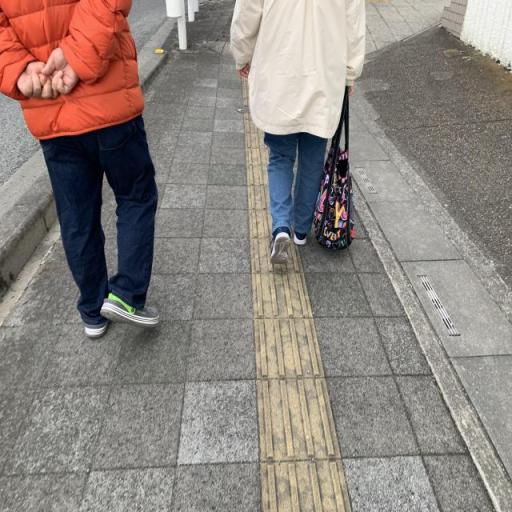line: (256, 377, 341, 462), (253, 317, 325, 378), (253, 272, 313, 317)
